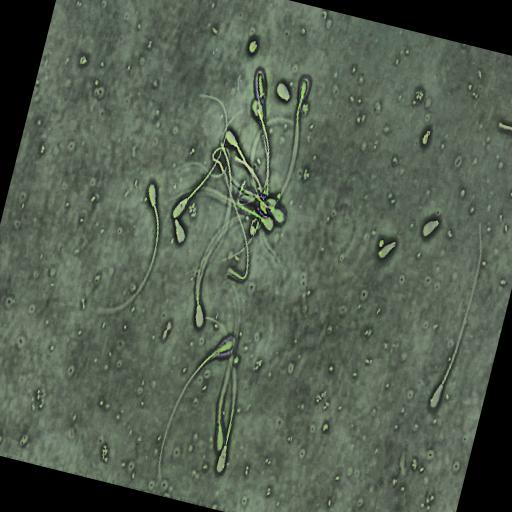dirt-particles: (246, 36, 260, 56), (421, 127, 432, 148)
loose-head: (375, 239, 397, 262), (422, 218, 441, 241), (275, 79, 292, 104), (173, 217, 187, 246)
loose-tail: (221, 164, 251, 283), (496, 120, 512, 133)
normal: (156, 333, 236, 484), (426, 214, 486, 415), (90, 176, 163, 321), (252, 74, 310, 238), (169, 87, 232, 222), (205, 311, 243, 483), (189, 215, 238, 333), (222, 122, 265, 202), (250, 98, 270, 241)
